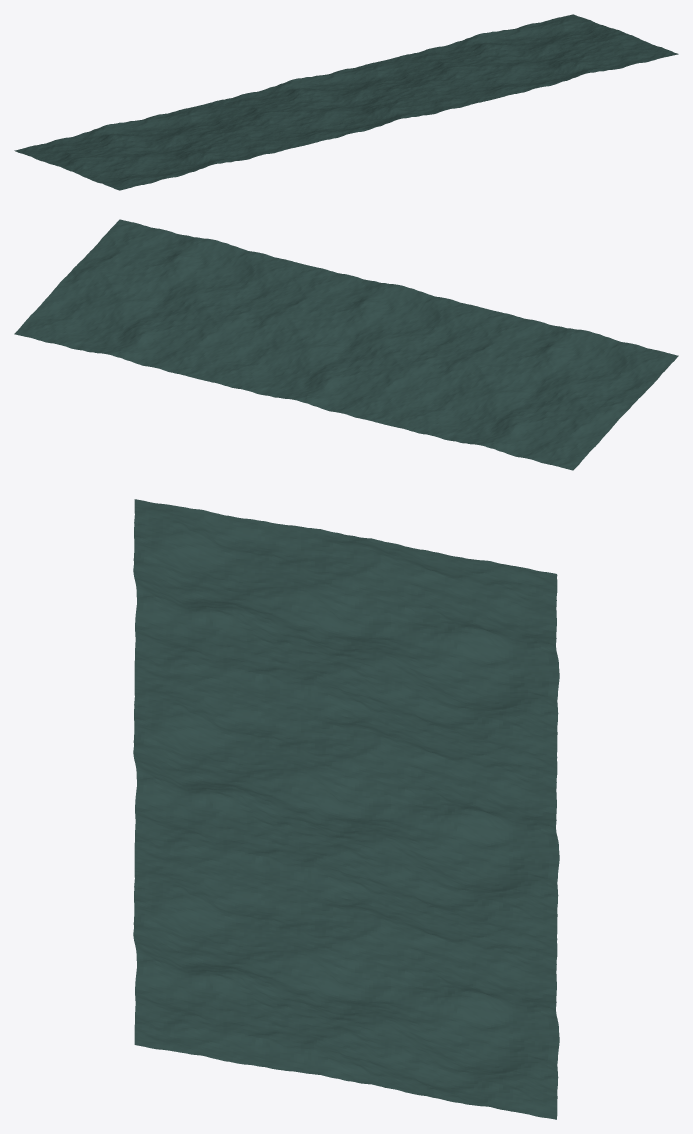
The model's file is BeachSea.fbx.
3 views of the same model, one above another, from view 1: azimuth 30°, elevation 25°; view 2: azimuth 150°, elevation 25°; view 3: azimuth 270°, elevation 25° (orthographic). The views are drawn at different scales.
Visible parts, largest first — view 1: Plane.003; view 2: Plane.003; view 3: Plane.003.
Boxes of the visible parts, x1=… form: Plane.003: x1=14, y1=14, x2=678, y2=190; Plane.003: x1=14, y1=219, x2=678, y2=470; Plane.003: x1=133, y1=499, x2=559, y2=1119.
Bounding box in the file's own units: 0.6111 × 0.0425 × 0.2016.
